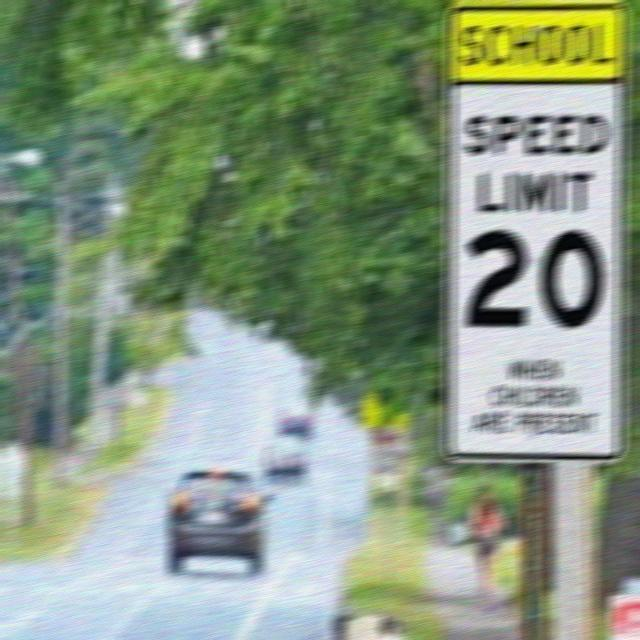speedLimit20: (443, 82, 628, 464)
